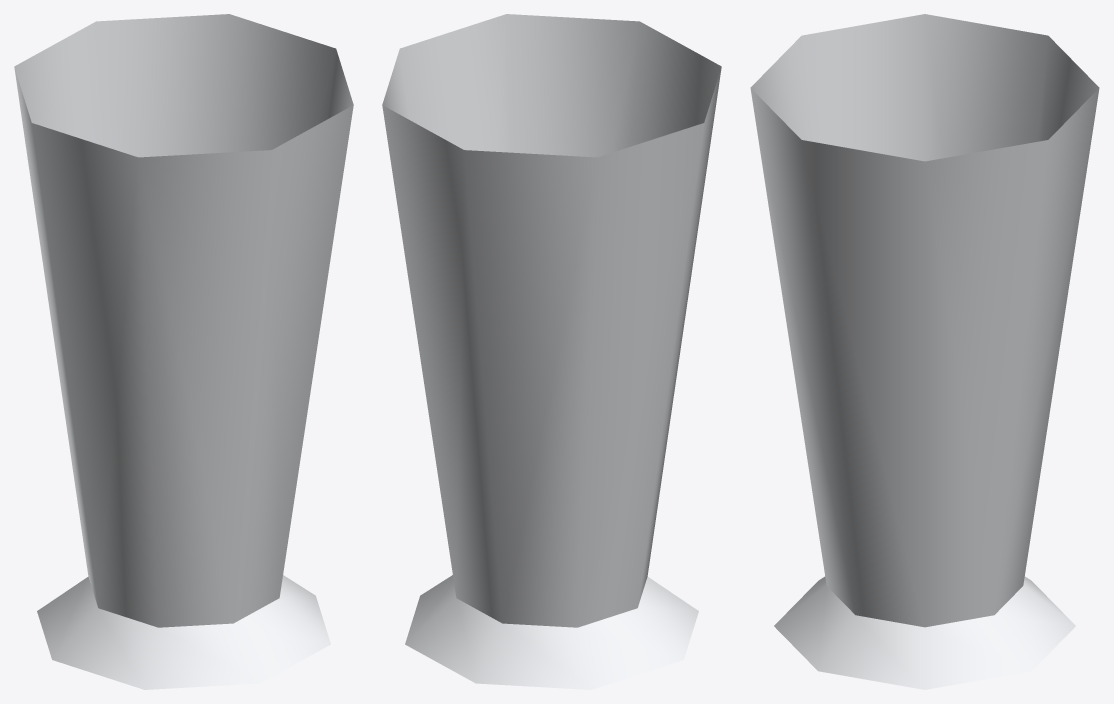
The model's file is cooking_assets_footed_pilsner.glb.
3 renders of one model, left to right at view 1: azimuth 30°, elevation 25°; view 2: azimuth 150°, elevation 25°; view 3: azimuth 270°, elevation 25°, orthographic.
Visible parts, largest first — view 1: sercups_footed_pilsner_glass_Cylinder.107; view 2: sercups_footed_pilsner_glass_Cylinder.107; view 3: sercups_footed_pilsner_glass_Cylinder.107.
Part boxes in pixels (left/top/right/bottom): sercups_footed_pilsner_glass_Cylinder.107: left=14, top=14, right=353, bottom=689; sercups_footed_pilsner_glass_Cylinder.107: left=382, top=14, right=721, bottom=689; sercups_footed_pilsner_glass_Cylinder.107: left=750, top=14, right=1099, bottom=689.
Size of the model in its own units: 1.74 by 2.98 by 1.74.
1 material, 1 textured.
